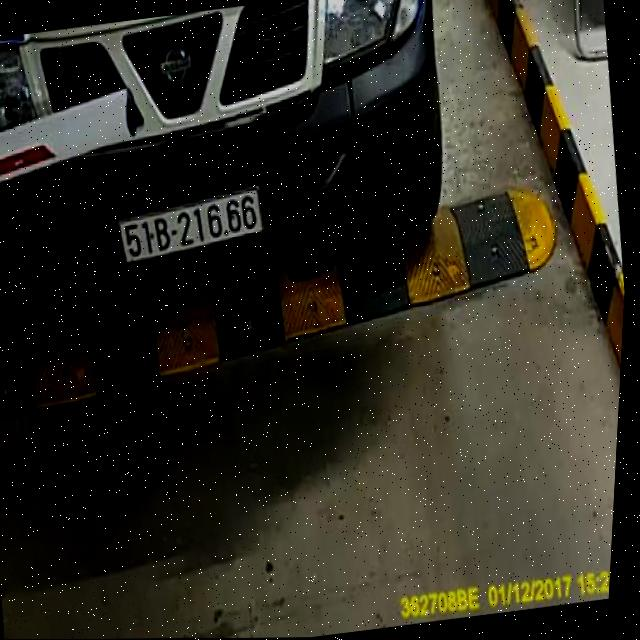car: (0, 0, 473, 349)
plate: (108, 180, 269, 269)
